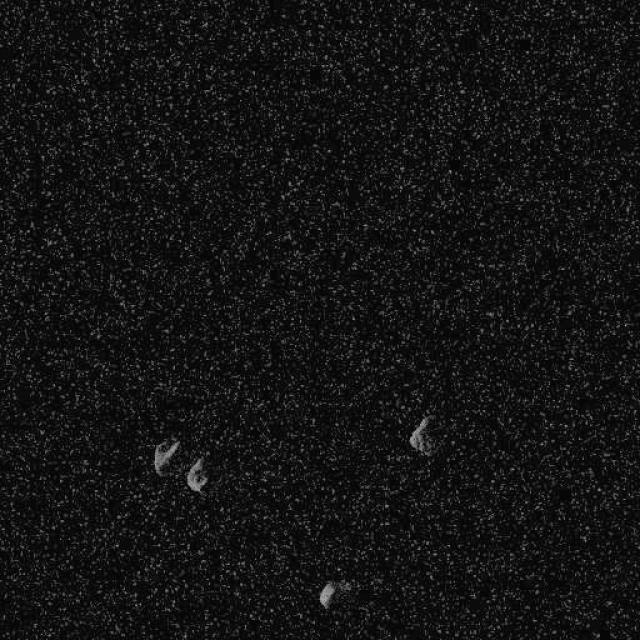D2: (408, 412, 437, 457), (152, 436, 180, 474), (185, 455, 207, 493), (317, 580, 335, 609)
